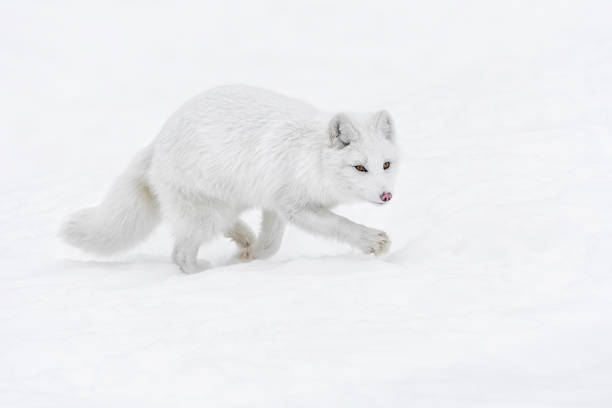arcticfox: (343, 131, 403, 211)
